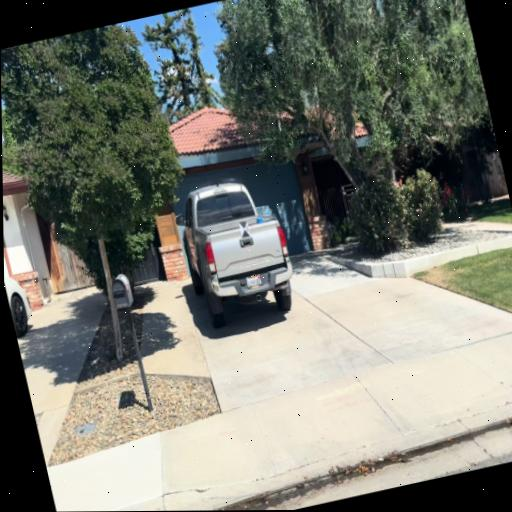target1: (239, 220, 250, 237)
